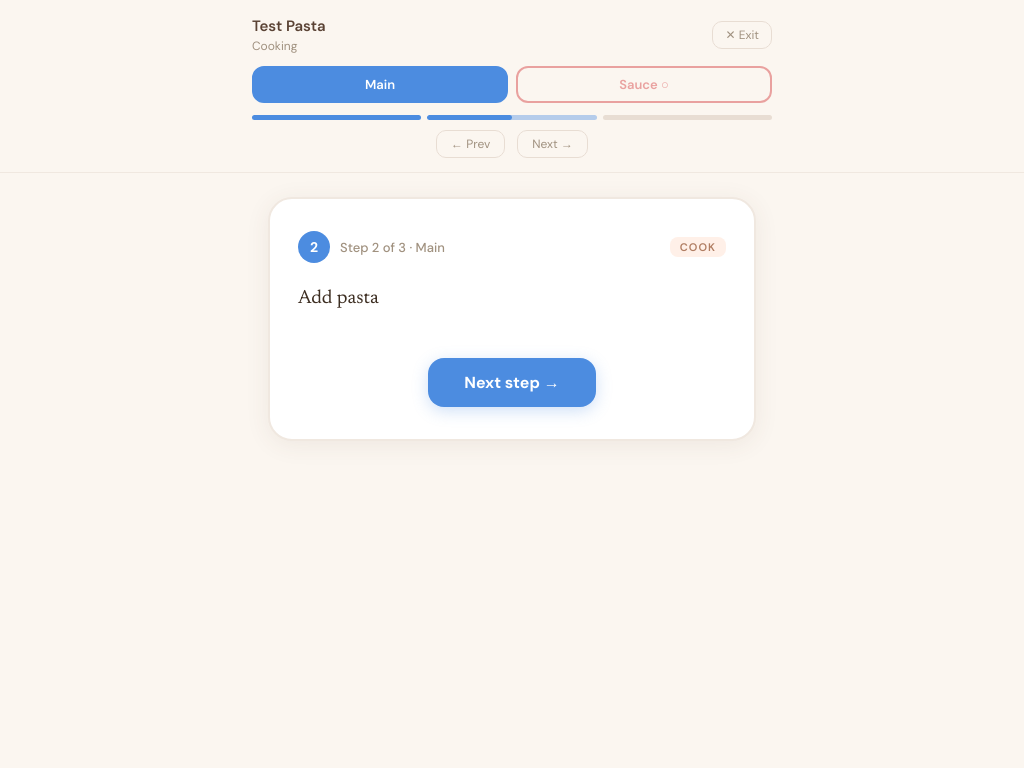
Test: CookingView › step review navigation › current step timer toast pill › shows current step timer pill for a done (not yet advanced) timer
What coordinates should you click on to do the following:
click the button "← Prev"
I would click on:
 (471, 144)
Its box is left=436, top=130, right=505, bottom=158.
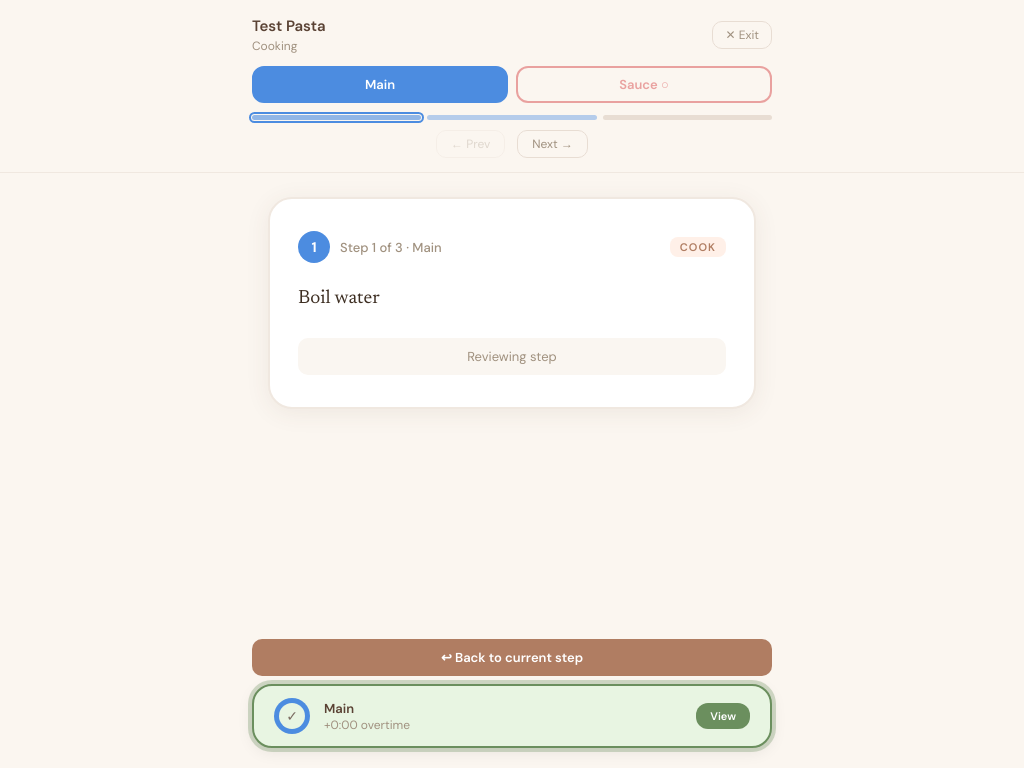
expect the button "View" is shown: met, box left=696, top=703, right=750, bottom=729
